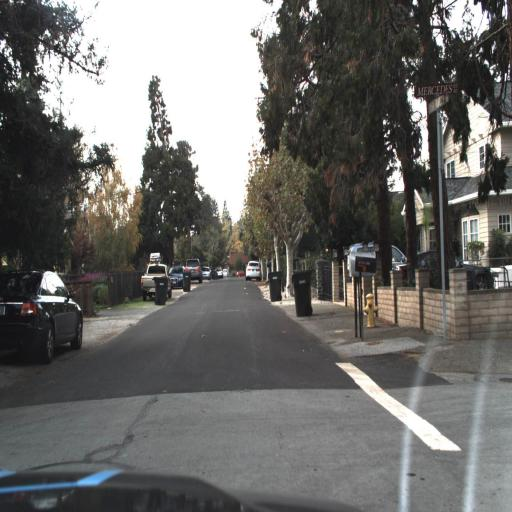car: (0, 266, 93, 363), (387, 243, 495, 292), (325, 235, 389, 275), (133, 258, 168, 304), (165, 260, 184, 294), (169, 260, 188, 290), (241, 255, 261, 283), (182, 256, 200, 285)
